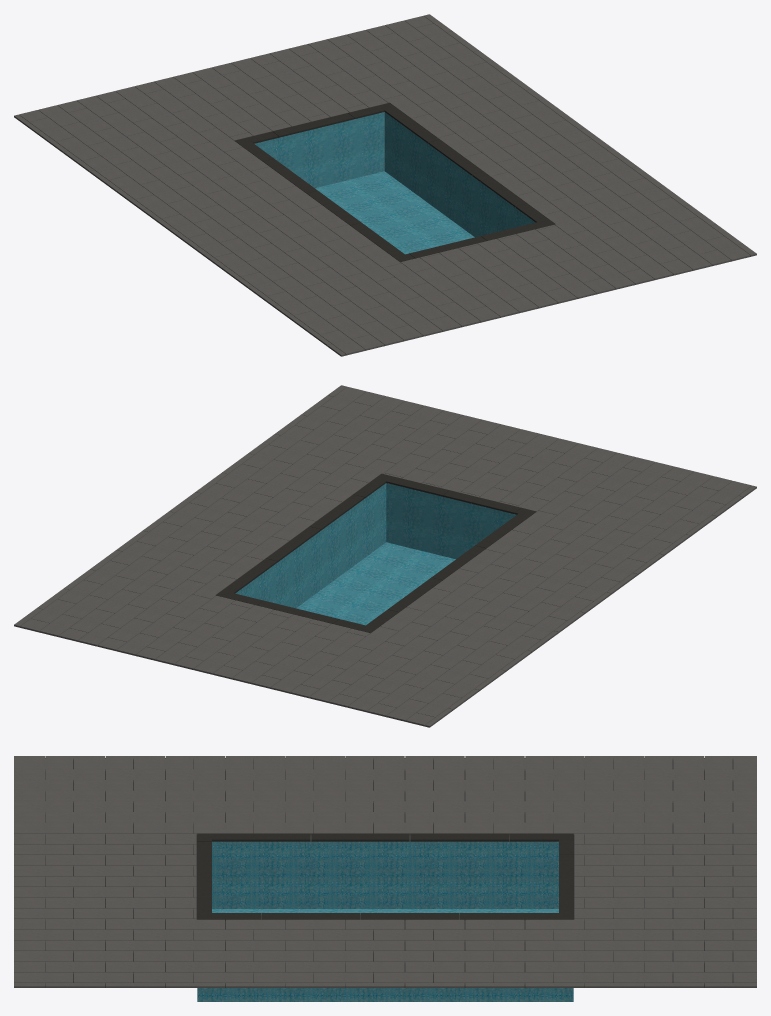
The model's file is swimming_pool.glb.
3 views of the same model, one above another, from view 1: azimuth 30°, elevation 25°; view 2: azimuth 150°, elevation 25°; view 3: azimuth 270°, elevation 25° (orthographic). The views are drawn at different scales.
Parts seen in each view (by area): view 1: Pool_StoneTiles_0, Pool_SwimmingPoolTiles_0, PoolEdges_SwimmingPoolEdgeTiles_0; view 2: Pool_StoneTiles_0, Pool_SwimmingPoolTiles_0, PoolEdges_SwimmingPoolEdgeTiles_0; view 3: Pool_StoneTiles_0, Pool_SwimmingPoolTiles_0, PoolEdges_SwimmingPoolEdgeTiles_0, Floor_Underground_FloorUnderground_0.
Part boxes in pixels (box(x1,y1,x2,y2)): Pool_StoneTiles_0: box(14, 14, 756, 356); Pool_SwimmingPoolTiles_0: box(254, 112, 535, 254); PoolEdges_SwimmingPoolEdgeTiles_0: box(235, 103, 554, 262); Pool_StoneTiles_0: box(14, 385, 756, 727); Pool_SwimmingPoolTiles_0: box(235, 483, 516, 625); PoolEdges_SwimmingPoolEdgeTiles_0: box(216, 474, 535, 633); Pool_StoneTiles_0: box(14, 756, 756, 987); Pool_SwimmingPoolTiles_0: box(197, 841, 573, 1001); PoolEdges_SwimmingPoolEdgeTiles_0: box(197, 833, 573, 920); Floor_Underground_FloorUnderground_0: box(45, 758, 733, 987).
Size of what is drawn, in the model's own units: 11 by 1.84 by 15.
Materials: 4 (3 with a texture image).
